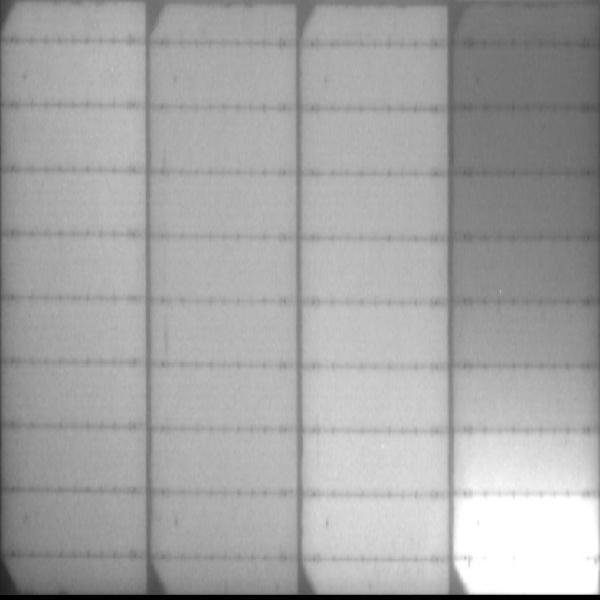hot_spot: (459, 501, 600, 551), (463, 551, 599, 592)
